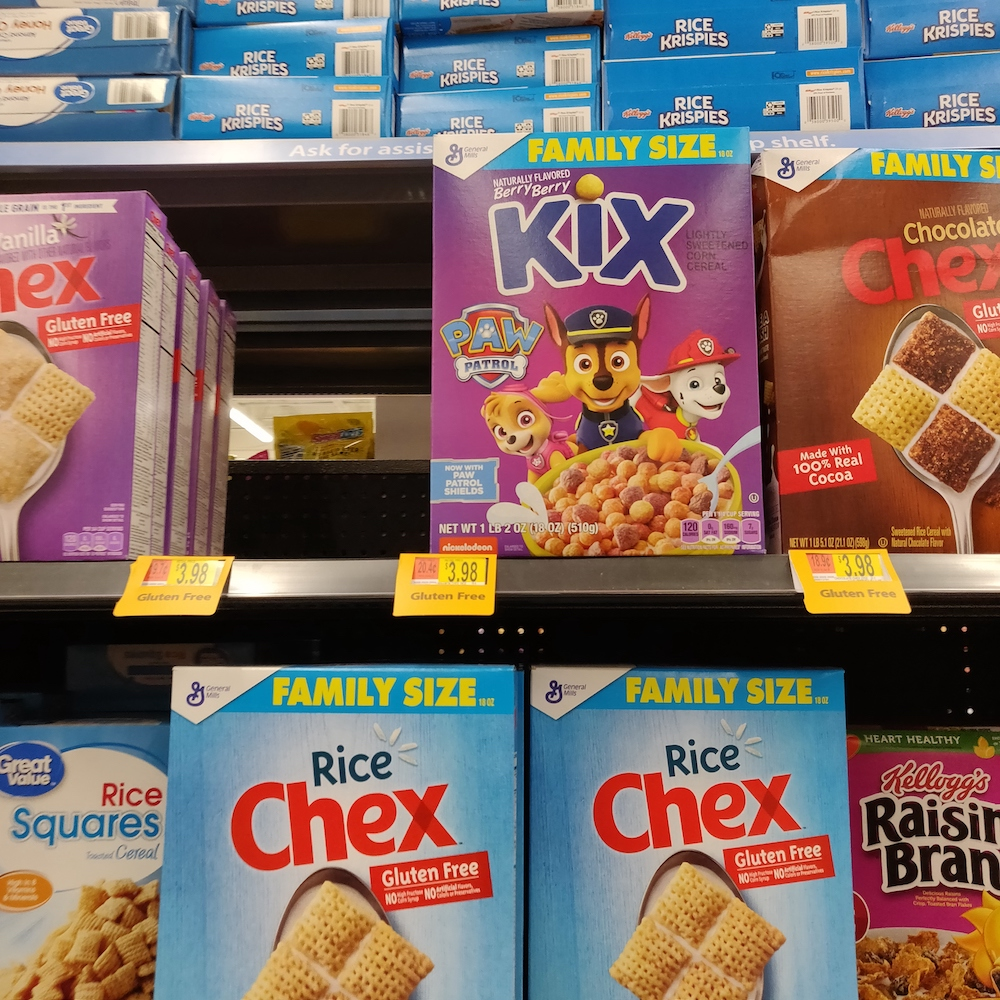Kix Berry -568919964: (436, 146, 779, 549)
